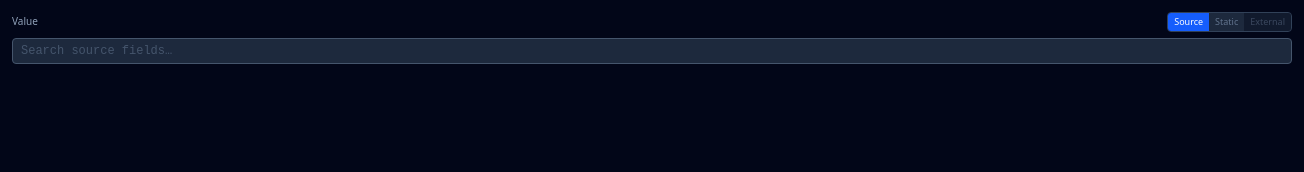
Scenario: ValueEntryEditor — FS-052 T-05 custom source dropdown › opens dropdown on focus and shows schema fields
Click the field with test id "value-source-0-value".
click(652, 50)  # box [12,38,1292,64]
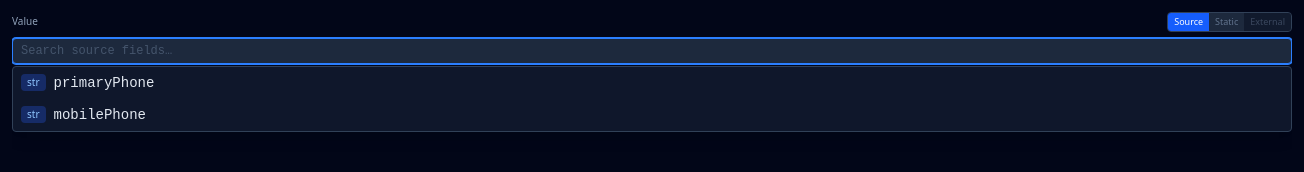
Now the list with test id "value-source-listbox-0-value" is shown, box [12,66,1292,132]
Now the button with test id "value-source-option-0-value-primaryPhone" is shown, box [13,66,1291,98]
Now the button with test id "value-source-option-0-value-mobilePhone" is shown, box [13,98,1291,130]
